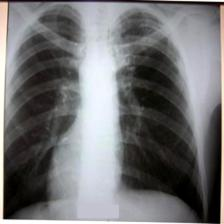tuberculosis: (1, 0, 210, 224)
